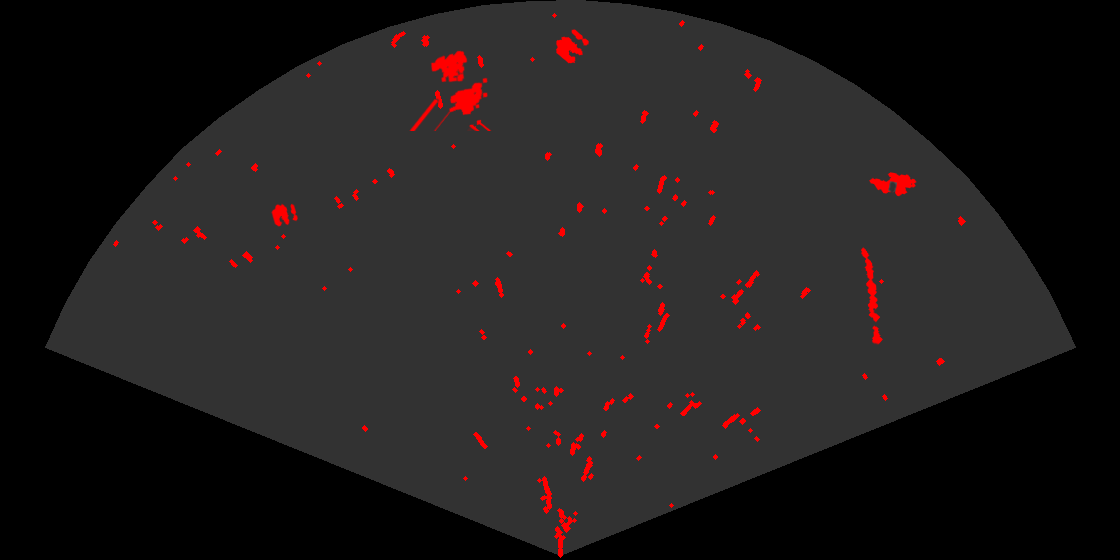AUV: (868, 171, 918, 198)
ball: (554, 28, 590, 65), (270, 202, 299, 228)
cage: (408, 49, 493, 131)
chain: (859, 246, 884, 345)
